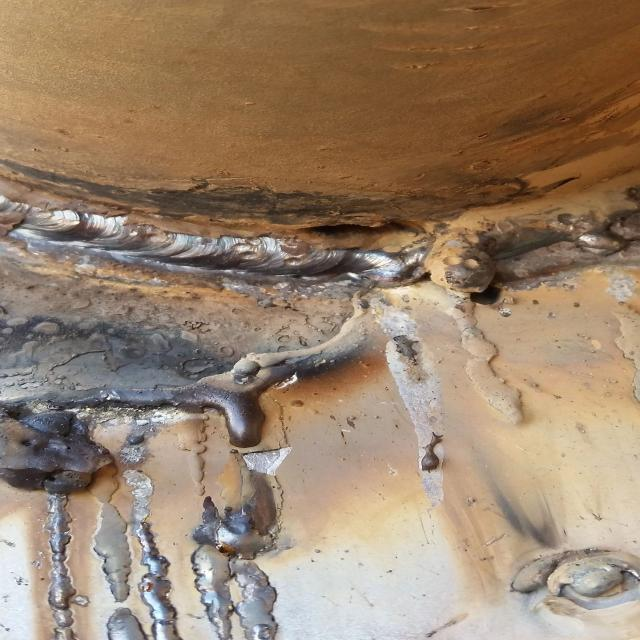Bad Welding: (0, 164, 640, 515)
